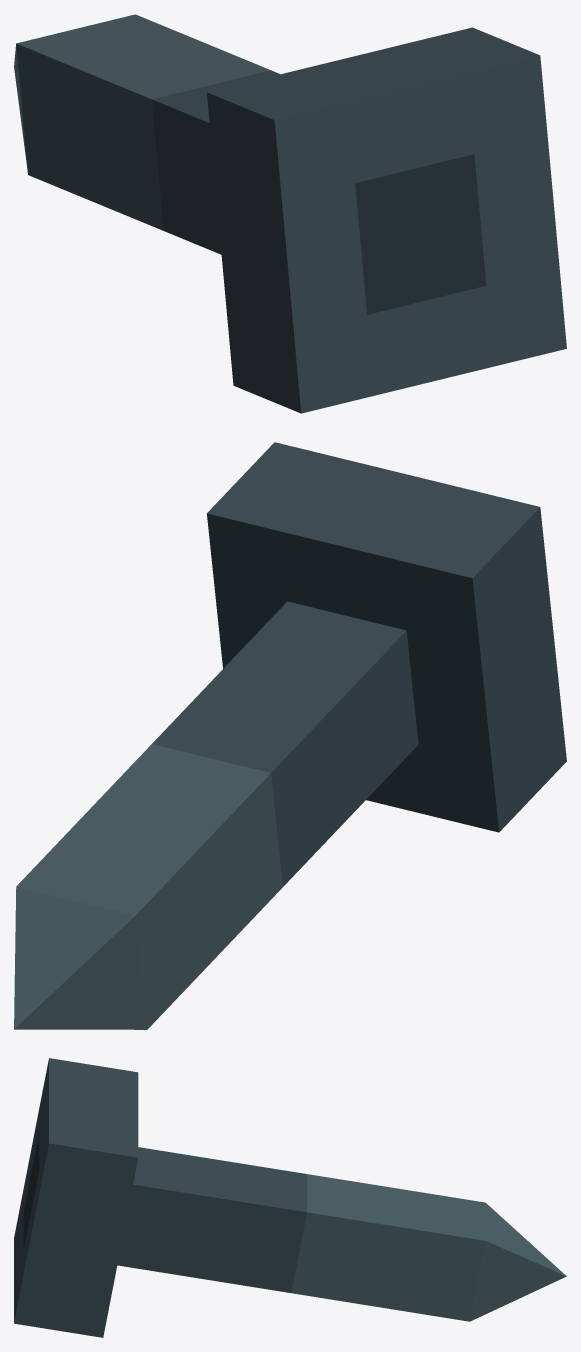
The model's file is nail.fbx.
The picture shows the model from 3 angles, top to bottom: view 1: azimuth 30°, elevation 25°; view 2: azimuth 150°, elevation 25°; view 3: azimuth 270°, elevation 25°; orthographic projection. The views are drawn at different scales.
Visible parts, largest first — view 1: nail; view 2: nail; view 3: nail.
Part boxes in pixels (x1=…): nail: x1=14, y1=14, x2=566, y2=413; nail: x1=14, y1=442, x2=566, y2=1029; nail: x1=14, y1=1058, x2=566, y2=1337.
Bounding box in the file's own units: 10.45 × 11.52 × 28.6.
1 material, 1 textured.
